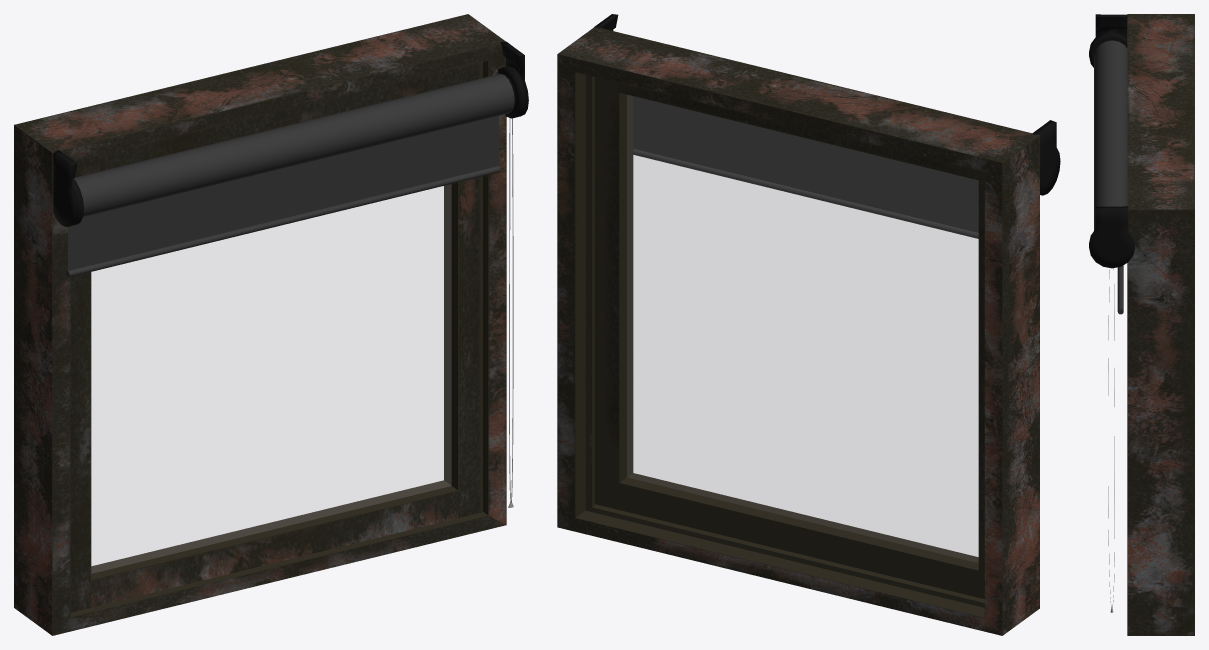
File: window_blinds_open.glb
3 views of the same model, side by side, from view 1: azimuth 30°, elevation 25°; view 2: azimuth 150°, elevation 25°; view 3: azimuth 270°, elevation 25° (orthographic). The views are drawn at different scales.
Parts seen in each view (by area): view 1: up, f, Panel, Roller, Side.L, Side.R, String; view 2: up, f, Panel, Side.L; view 3: f, Roller, Side.R, Side.L, String, Panel.
Boxes of the visible parts, <box> form: up: <box>70,62,482,612</box>; f: <box>14,14,506,635</box>; Panel: <box>66,116,500,277</box>; Roller: <box>73,73,514,217</box>; Side.L: <box>53,150,83,226</box>; Side.R: <box>498,41,528,118</box>; String: <box>509,118,513,501</box>; up: <box>595,77,984,598</box>; f: <box>557,26,1039,635</box>; Panel: <box>633,96,978,238</box>; Side.L: <box>1032,120,1060,195</box>; f: <box>1127,14,1194,635</box>; Roller: <box>1094,40,1127,230</box>; Side.R: <box>1089,206,1134,268</box>; Side.L: <box>1089,14,1128,67</box>; String: <box>1108,268,1114,606</box>; Panel: <box>1117,265,1123,314</box>.
Bounding box in the file's own units: 0.9009 × 0.9158 × 0.206.
6 materials, 2 textured.
